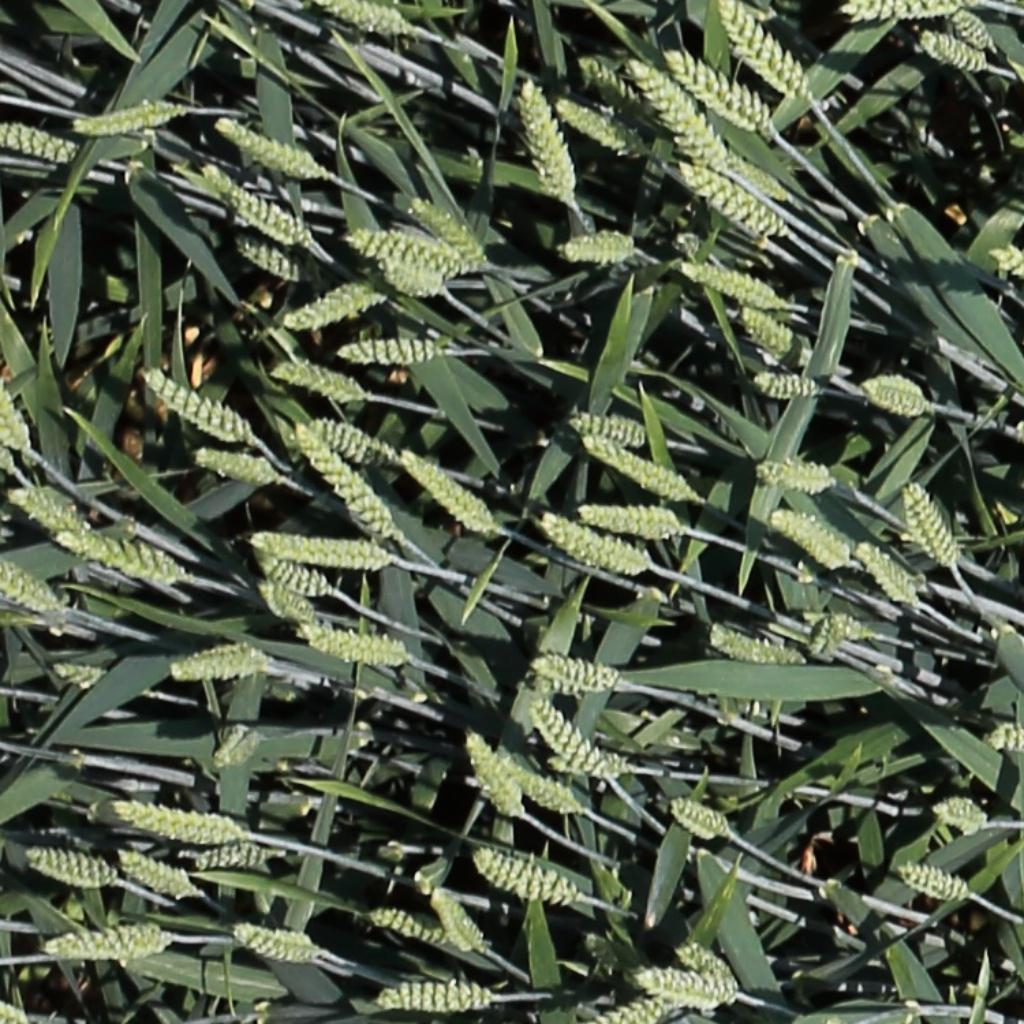0-0: (286, 420, 397, 544), (628, 54, 724, 172), (714, 1, 813, 102), (197, 163, 308, 244), (678, 159, 785, 238), (514, 76, 580, 203), (666, 50, 771, 129), (397, 450, 492, 533), (139, 368, 245, 442), (525, 699, 618, 782), (580, 434, 692, 502), (49, 531, 181, 581), (537, 514, 644, 574), (214, 117, 323, 175), (458, 729, 524, 824), (38, 915, 183, 958), (472, 853, 576, 907), (899, 477, 959, 570), (406, 192, 483, 264), (251, 535, 389, 575), (344, 228, 463, 273), (111, 802, 240, 843), (850, 537, 920, 610), (576, 55, 651, 122), (365, 899, 460, 951), (627, 960, 732, 1007), (767, 510, 850, 569), (679, 260, 782, 307), (368, 977, 506, 1012), (552, 95, 638, 151), (425, 884, 486, 958), (304, 420, 400, 466), (735, 303, 806, 365), (8, 487, 86, 539), (503, 764, 580, 816), (188, 447, 281, 489), (297, 626, 405, 662), (705, 628, 804, 667), (113, 851, 192, 899), (281, 286, 389, 321), (166, 641, 268, 678), (229, 233, 305, 282), (528, 652, 618, 692), (268, 363, 364, 400), (320, 0, 416, 36), (19, 851, 117, 886), (72, 101, 182, 132), (576, 506, 679, 539), (722, 150, 791, 199), (252, 551, 326, 596), (860, 375, 935, 419), (0, 561, 61, 615), (667, 794, 734, 840), (805, 604, 865, 655), (675, 942, 735, 991), (229, 925, 315, 959), (894, 865, 970, 903), (0, 121, 75, 159), (191, 838, 273, 872), (335, 340, 437, 367), (943, 1, 995, 53), (920, 31, 988, 69), (255, 581, 312, 626), (208, 726, 262, 772), (753, 462, 833, 493), (1, 374, 32, 454), (554, 231, 635, 261), (929, 787, 981, 830), (593, 995, 675, 1022), (565, 417, 648, 442), (379, 260, 441, 293), (750, 374, 815, 398), (992, 247, 1024, 289), (49, 662, 105, 686), (988, 723, 1024, 756), (0, 998, 28, 1022)
